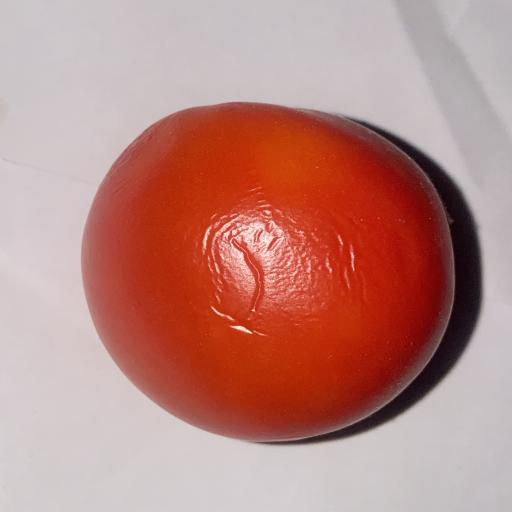overipe: (82, 103, 454, 441)
